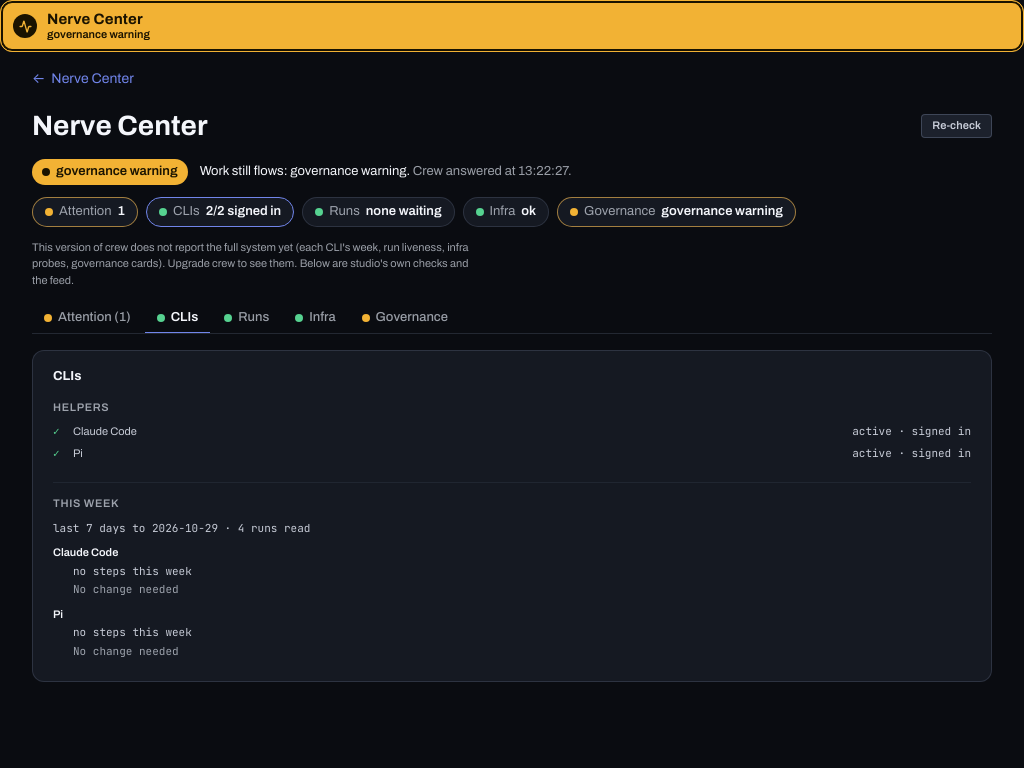
Scenario: against an older crew (no system capability) › a roster re-read that fails keeps the last seats on the CLIs tab, and its chip leaves green
Expected: the text with test id "nc-chip-words" reads "2/2 signed in", [206, 204, 281, 218]
Click the button with test id "nc-recheck" at (957, 126), box [921, 114, 992, 138]
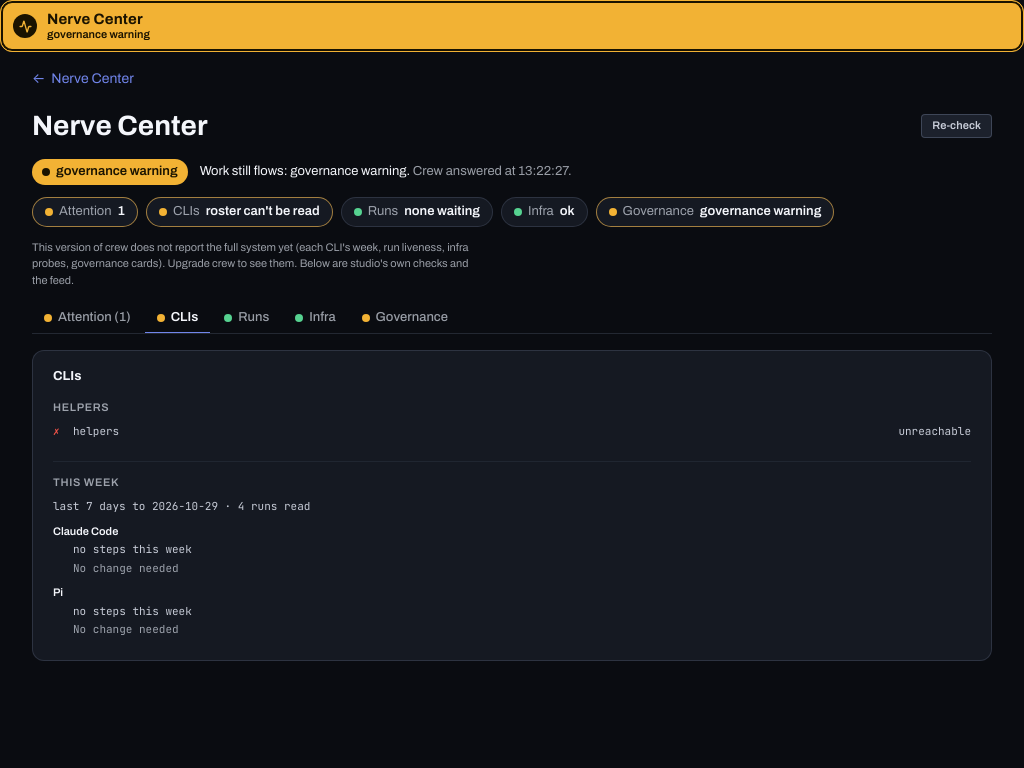
Expected: the text with test id "nc-chip-words" reads "roster can't be read", [206, 204, 320, 218]
